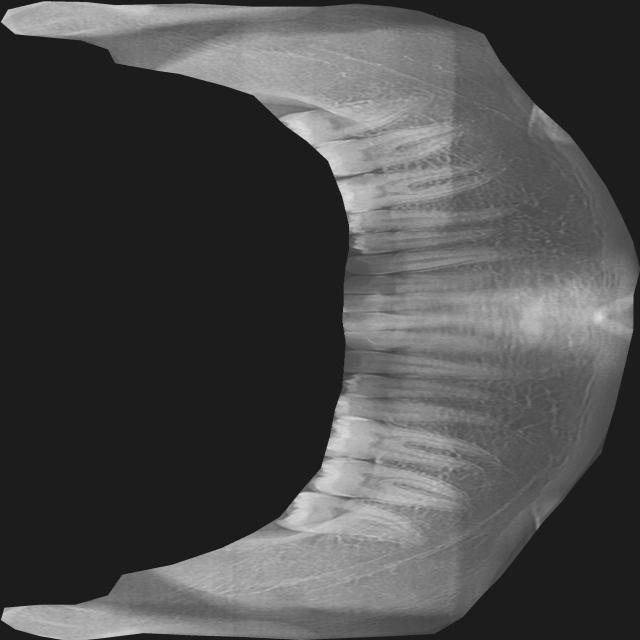mandibula: (1, 0, 640, 640)
